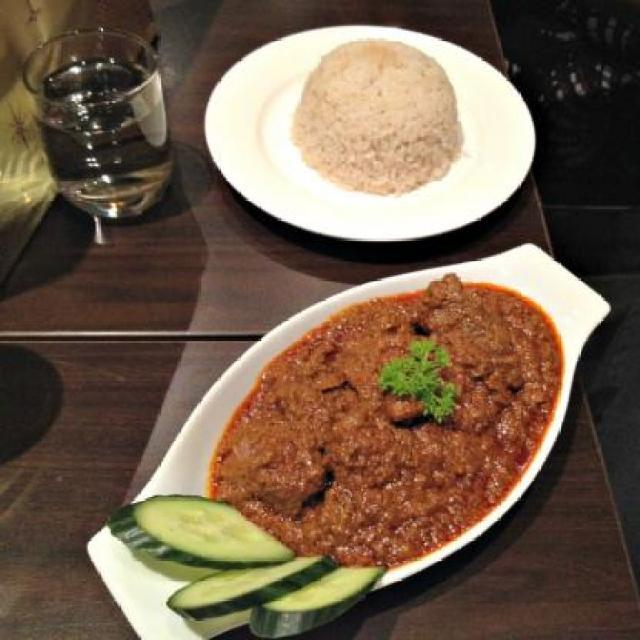Zucchini: (167, 540, 330, 628), (246, 563, 378, 635)
